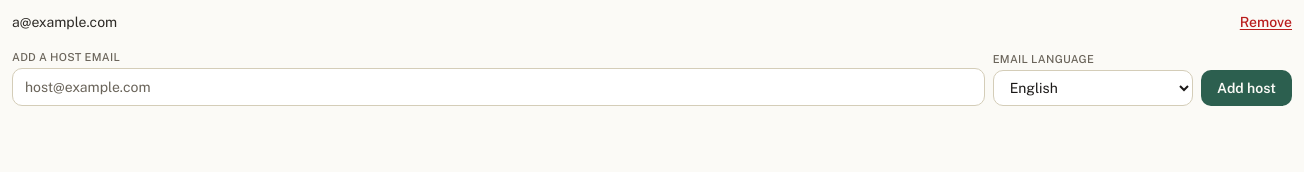
Test: HostAlertsAdminPanel › Remove: DELETEs and replaces the list with the response's refreshed hosts
The image size is (1304, 172).
Click the button "Remove": (1266, 22) [1240,12,1292,32]
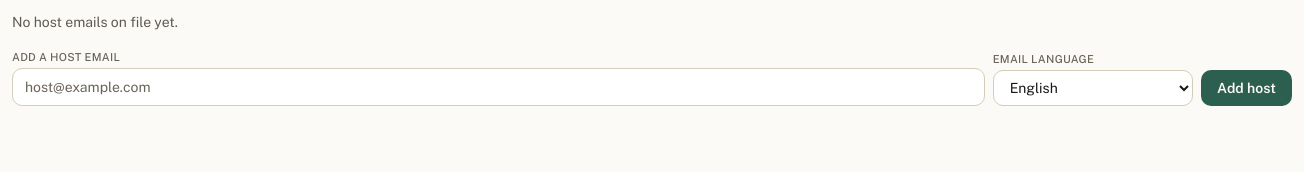
Now the text "a@example.com" is gone
